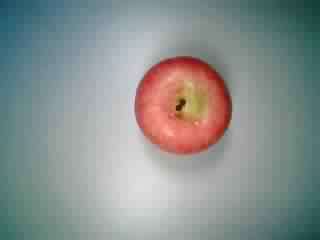apple: (131, 52, 233, 156)
